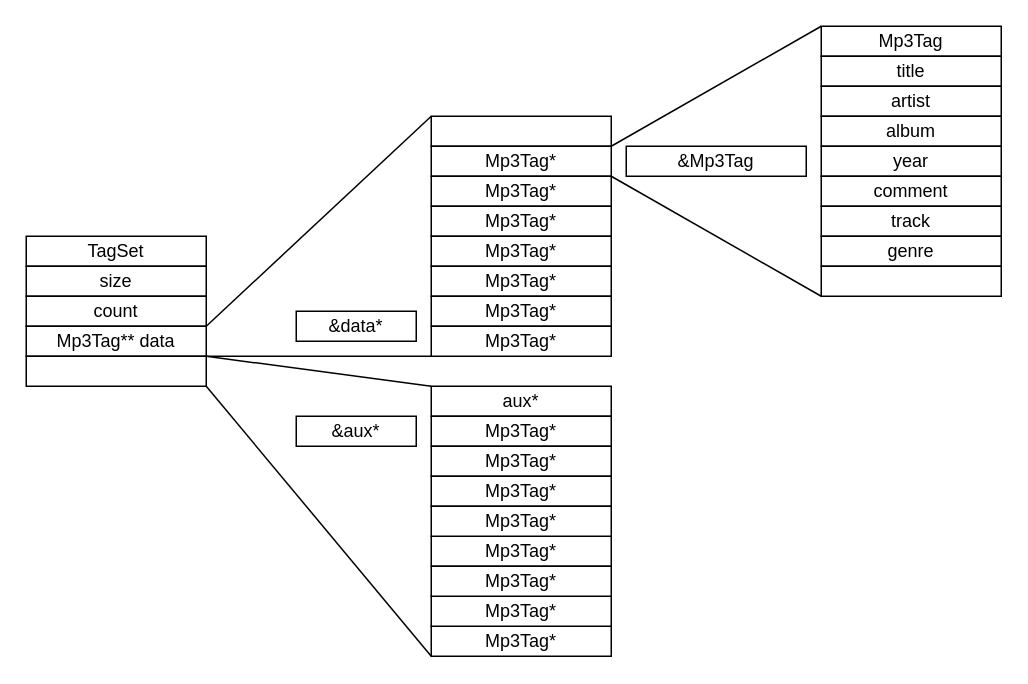
The diagram is 1028 pixels wide and 684 high, and some of its shapes have lost their labels. Here are the shapes that lost their labels. From the top down, the centre of each, then its label:
At point 520,130: "data*".
At point 910,280: "*filename".
At point 115,370: "Mp3Tag **aux".
